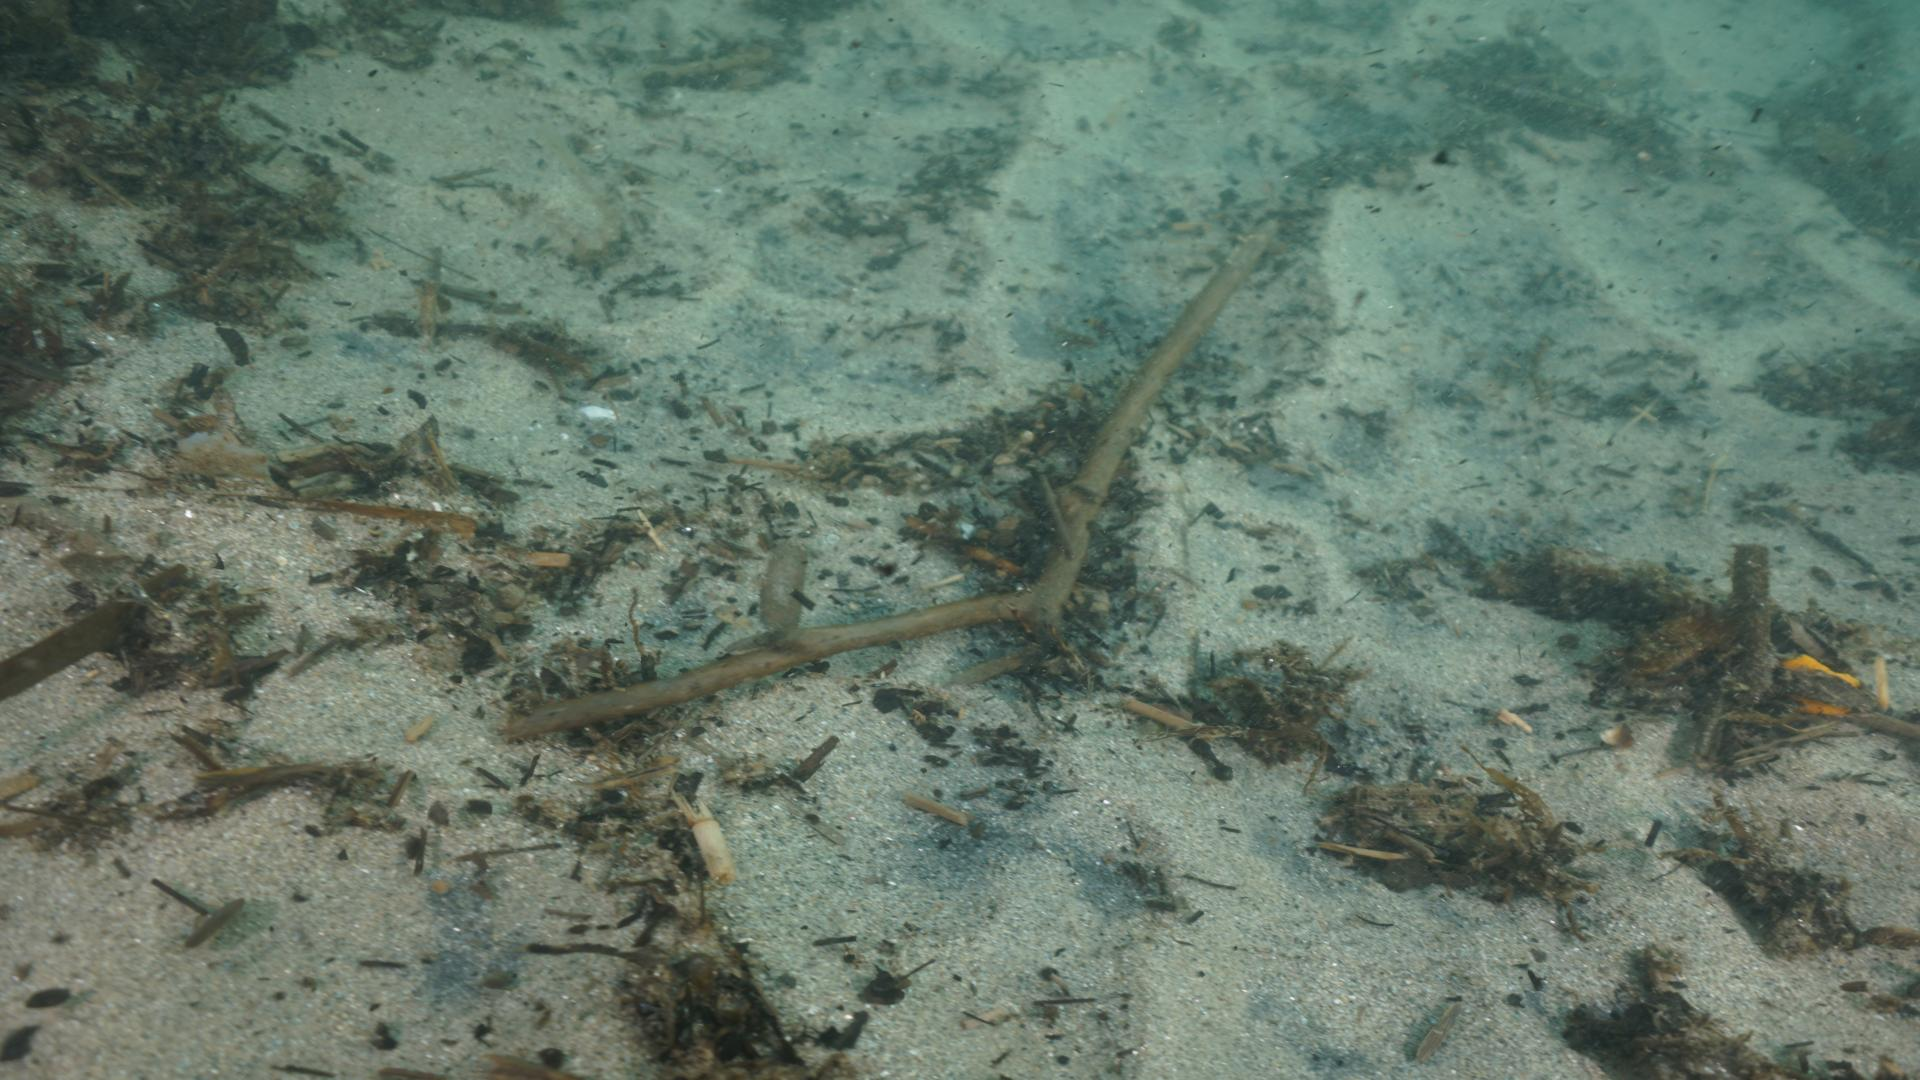wood: (506, 218, 1276, 738)
